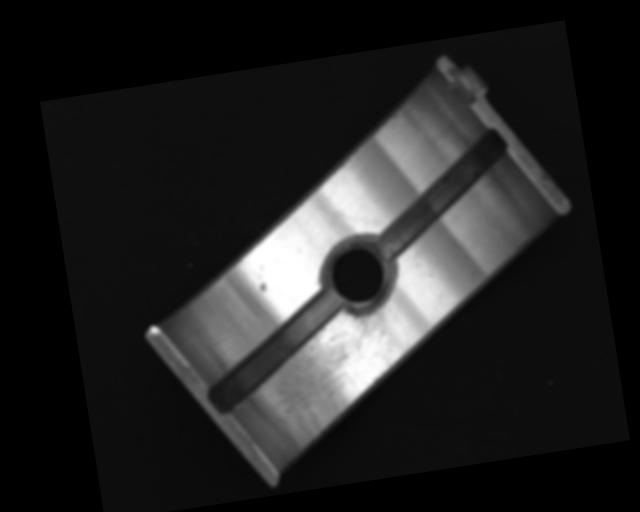bruise: (258, 281, 267, 294)
gap: (359, 126, 521, 261), (196, 289, 353, 415)
hole: (316, 234, 403, 320)
scratch: (261, 299, 410, 452)
